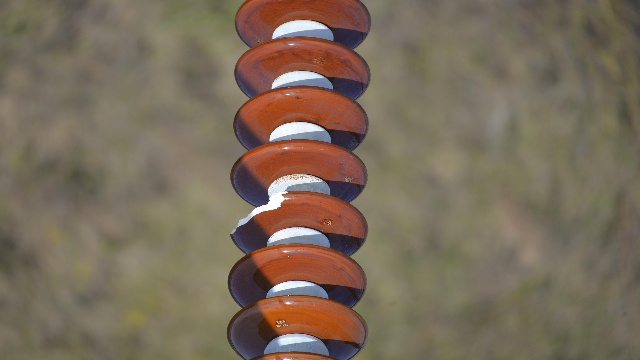broken_local: (228, 191, 293, 238)
insulator_unspecified: (224, 0, 374, 359)
